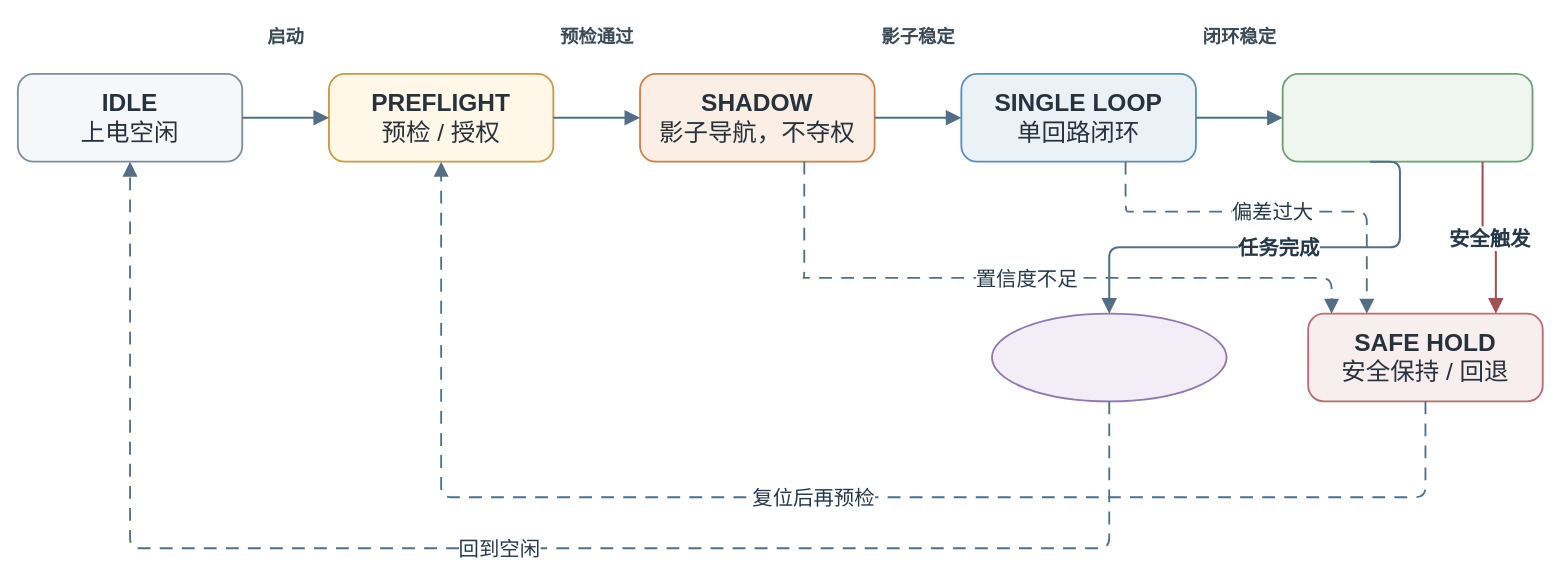
Image size: 1562x578. Some labels were removed from this diagram. The shapes that lost their labels are listed below. From the top down, each one's box as (x1, y1, x2, y2) in pixels, then its label:
(1281, 73, 1533, 162): FULL AUTONOMY 全自主任务
(991, 312, 1227, 402): COMPLETE 收尾 / 回收
